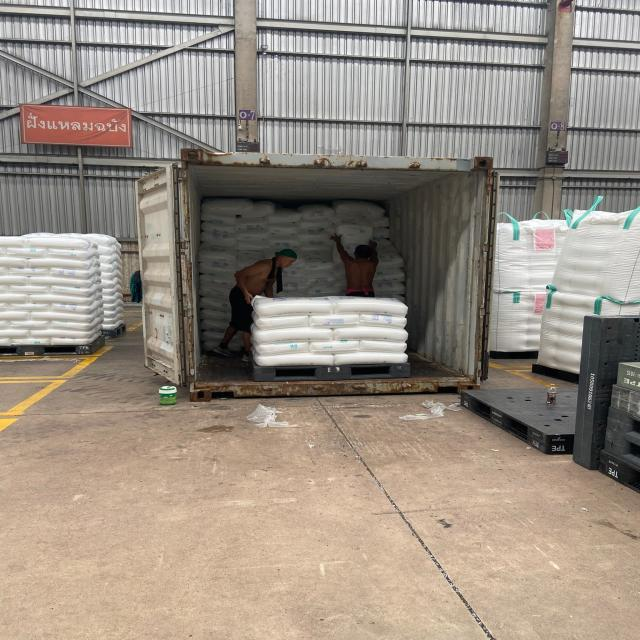gunny_bag: (336, 298, 406, 314), (336, 328, 406, 342), (258, 300, 330, 313), (256, 329, 332, 341), (260, 356, 331, 366), (336, 354, 404, 364), (361, 314, 408, 326), (260, 316, 308, 327), (258, 342, 310, 352), (312, 316, 357, 327), (312, 343, 358, 353), (361, 343, 404, 352)
